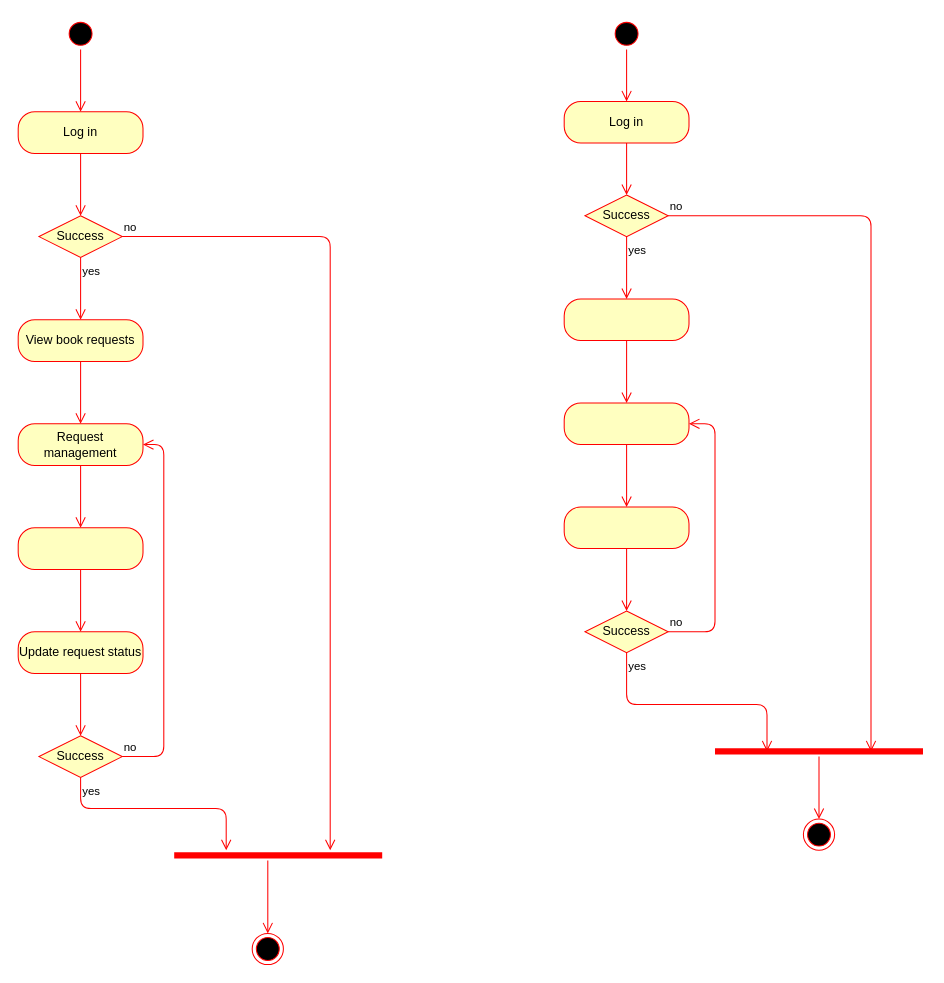
This 944x983 diagram has some shape labels left out. Each missing label, with the centre of its shape:
"Add new books" belongs at (x=626, y=527).
"Edit the stock of book library" belongs at (x=626, y=423).
"View initial status of the books" belongs at (x=626, y=319).
"View request" belongs at (x=80, y=548).
